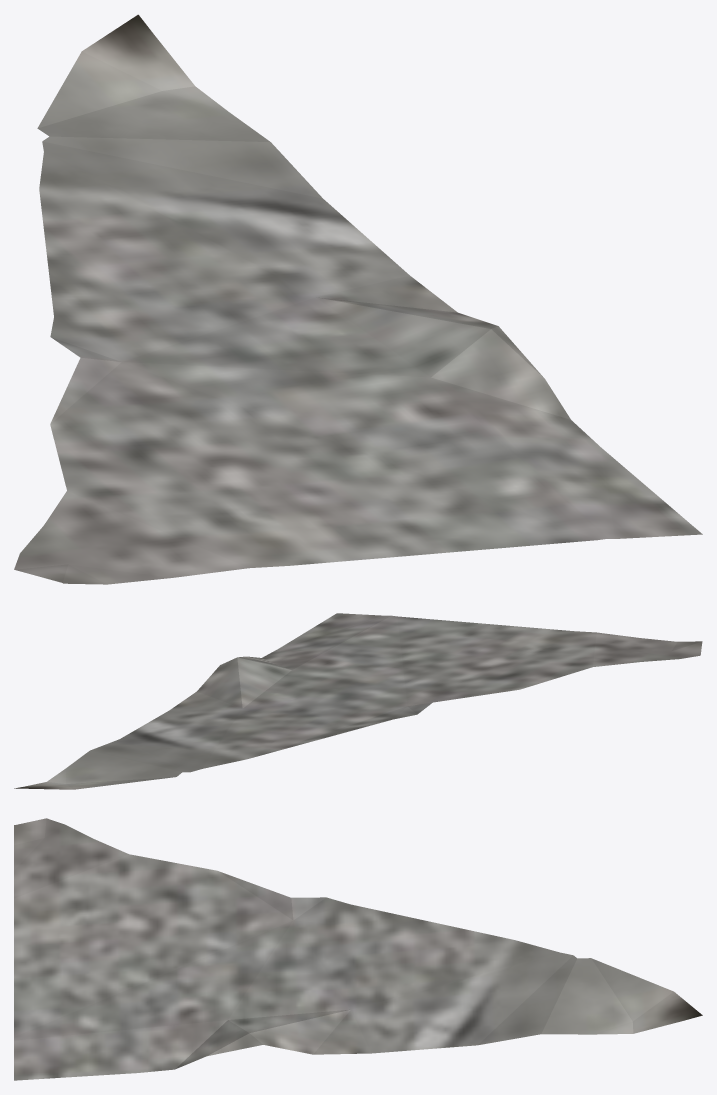
3 views of the same model, one above another, from view 1: azimuth 30°, elevation 25°; view 2: azimuth 150°, elevation 25°; view 3: azimuth 270°, elevation 25° (orthographic). The views are drawn at different scales.
Bounding box in the file's own units: 0.4078 × 0.0629 × 0.6021.
Materials: 1 (1 with a texture image).
